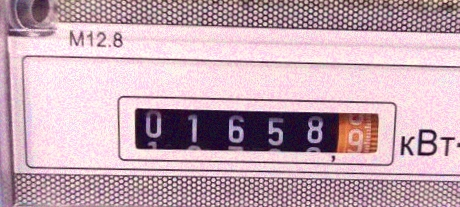0: (142, 106, 164, 139)
1: (186, 111, 200, 142)
5: (266, 114, 286, 146)
6: (226, 112, 247, 143)
8: (305, 113, 325, 145)
9: (345, 125, 363, 152)
screen: (108, 85, 401, 171)
